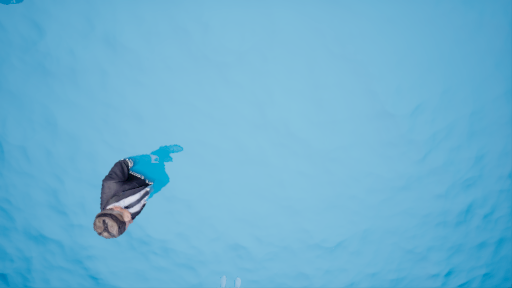person: (93, 141, 197, 242)
